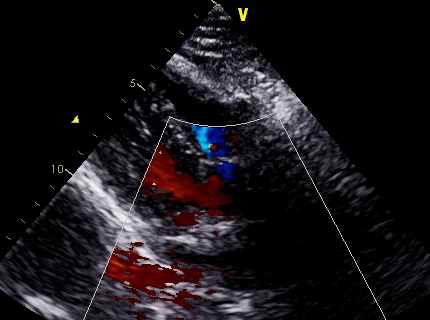AR: (157, 155, 237, 219)
